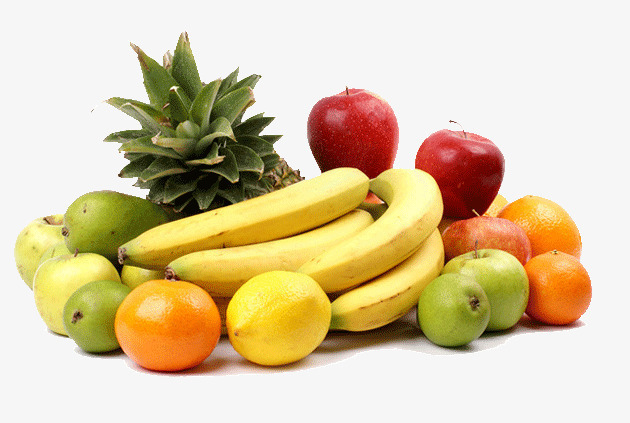apple: (411, 122, 525, 227), (301, 89, 410, 192)
banana: (122, 165, 379, 265), (296, 164, 453, 309), (160, 207, 394, 302), (324, 214, 460, 343)
orange: (108, 277, 223, 376), (492, 198, 590, 275), (518, 255, 598, 330)
